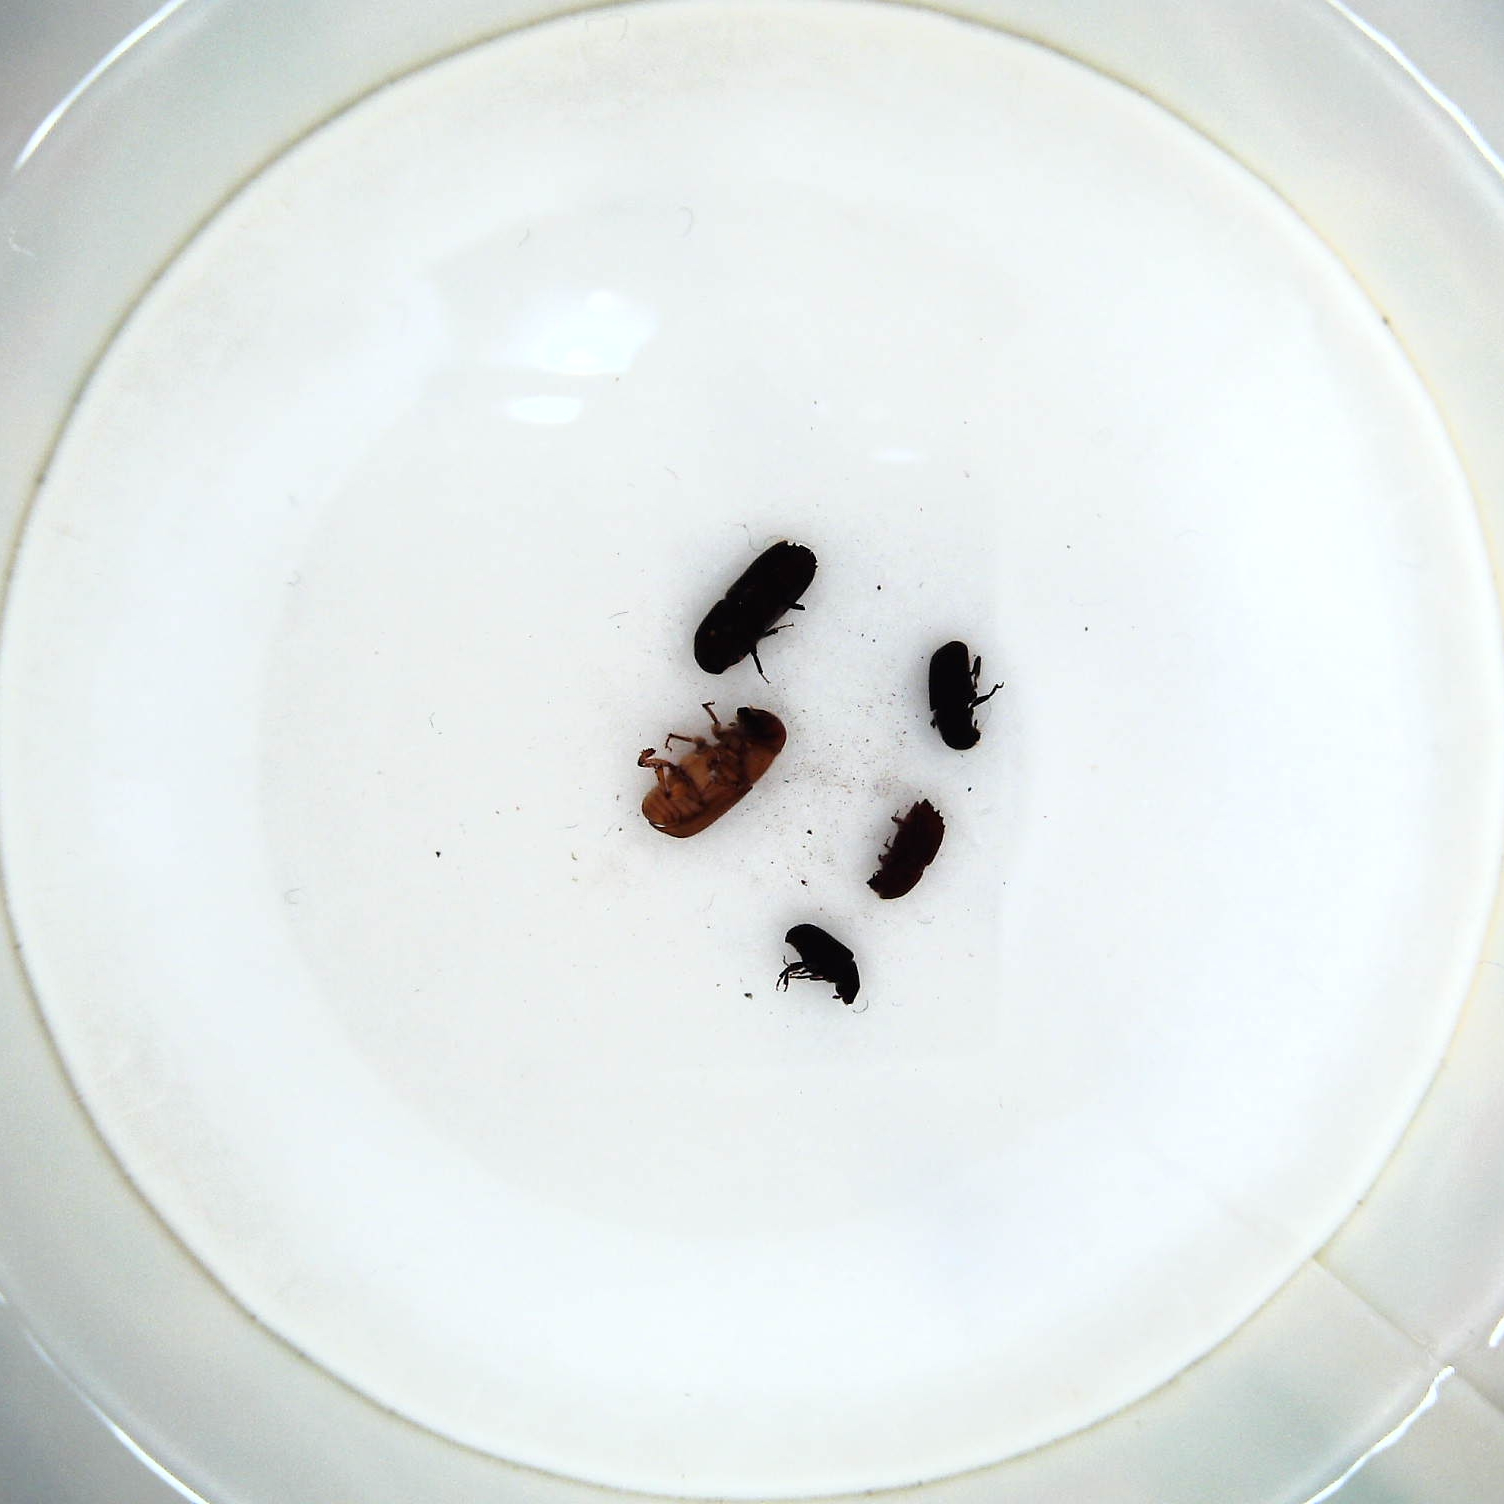Boerner: (691, 533, 825, 682)
Leconte: (638, 697, 793, 843)
armandi: (921, 634, 1010, 758)
coleoptera: (773, 919, 864, 1016)
linnaeus: (864, 793, 950, 902)
